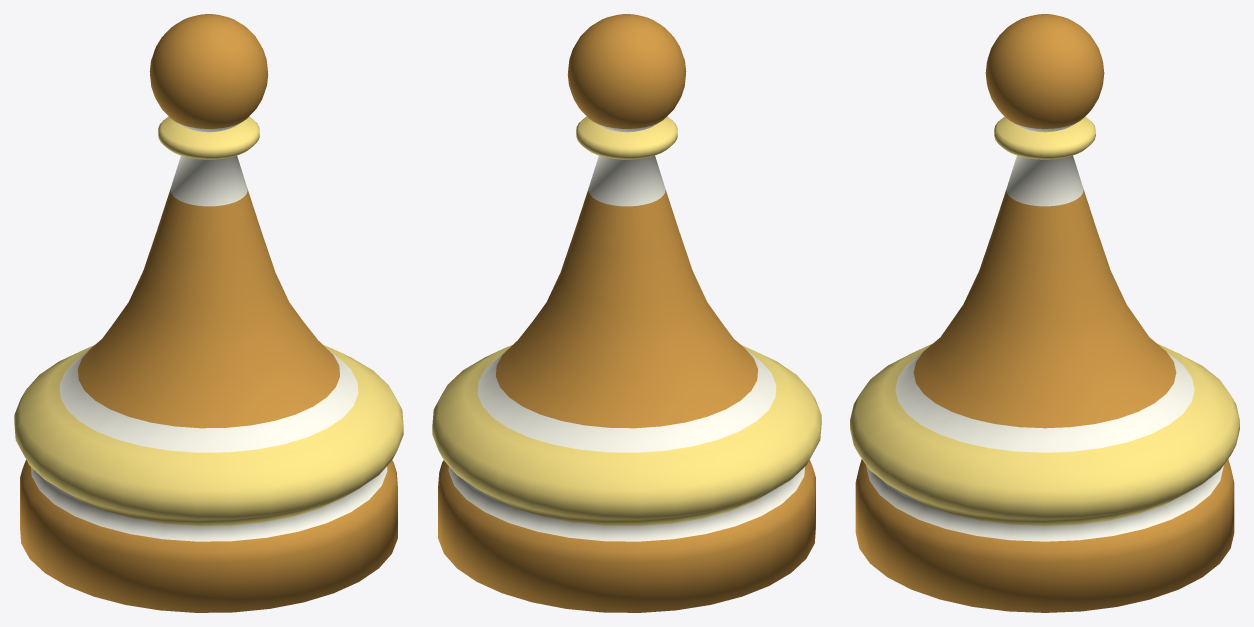
Rendered from DefaultPiece.glb.
The picture shows the model from 3 angles, left to right: view 1: azimuth 30°, elevation 25°; view 2: azimuth 150°, elevation 25°; view 3: azimuth 270°, elevation 25°; orthographic projection.
Parts seen in each view (by area): view 1: Pieza; view 2: Pieza; view 3: Pieza.
Boxes of the visible parts, x1,y1,x2,y2 form: Pieza: [14, 14, 403, 612]; Pieza: [432, 14, 821, 612]; Pieza: [850, 14, 1239, 612].
Size of the model in its own units: 2.06 by 2.99 by 2.06.
